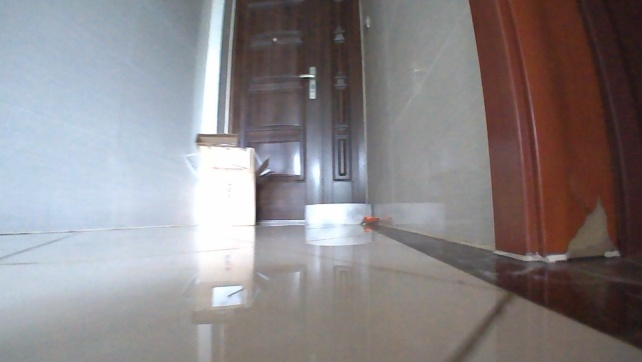door_anno: (226, 0, 365, 225)
